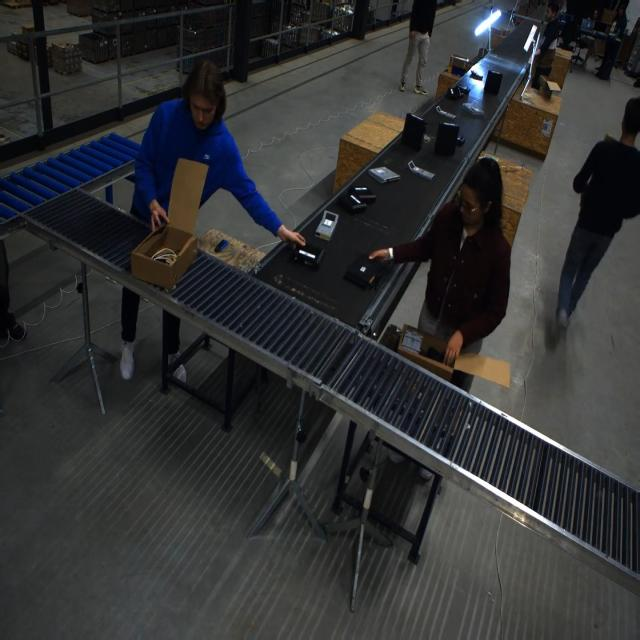box: (129, 157, 207, 291), (397, 322, 510, 390)
product: (343, 252, 388, 291), (401, 113, 427, 152), (433, 121, 460, 156), (290, 244, 324, 271), (314, 211, 337, 241), (338, 192, 366, 214), (407, 160, 435, 181), (368, 166, 399, 184), (484, 69, 503, 95), (448, 54, 469, 76), (349, 185, 375, 202), (446, 85, 467, 100), (462, 103, 484, 116), (469, 70, 483, 80)
